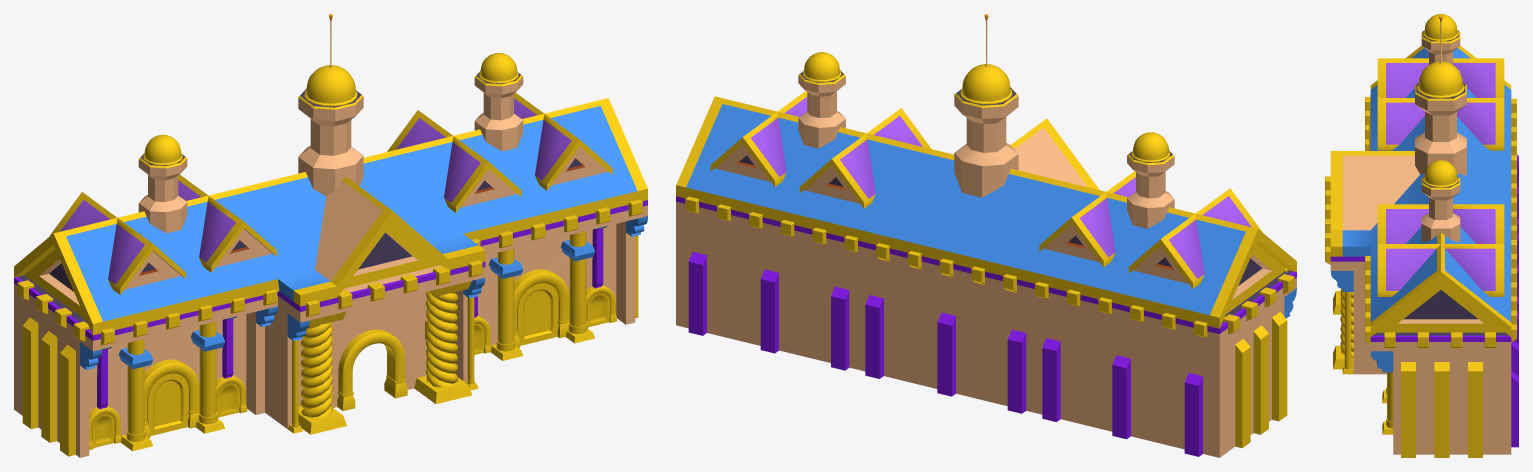
File: BigBuilding.fbx
3 renders of one model, left to right at view 1: azimuth 30°, elevation 25°; view 2: azimuth 150°, elevation 25°; view 3: azimuth 270°, elevation 25°, orthographic. The views are drawn at different scales.
Parts seen in each view (by area): view 1: BigBuilding_LOD0; view 2: BigBuilding_LOD0; view 3: BigBuilding_LOD0.
Part boxes in pixels (x1=…): BigBuilding_LOD0: x1=14, y1=14, x2=647, y2=457; BigBuilding_LOD0: x1=676, y1=14, x2=1296, y2=457; BigBuilding_LOD0: x1=1325, y1=14, x2=1518, y2=457.
Size of what is drawn, in the model's own units: 108 by 64.63 by 35.62.
